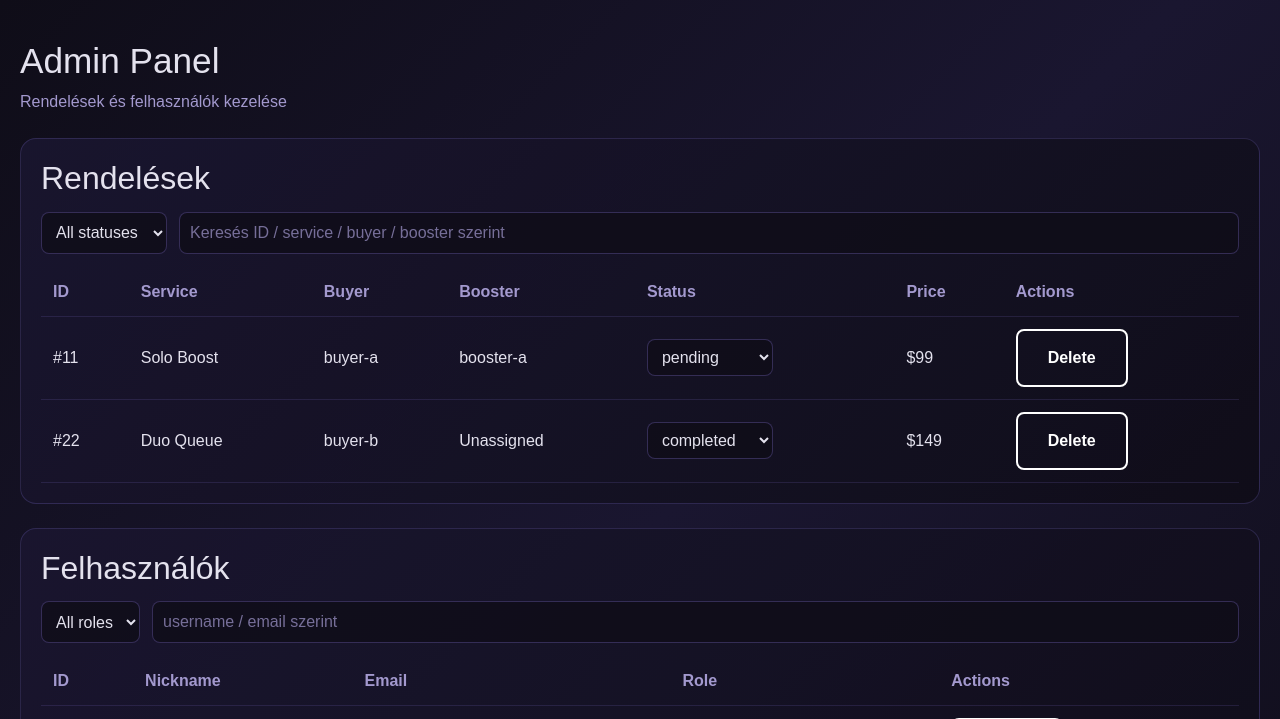
Scenario: Admin Dashboard › filters orders by search input
The image size is (1280, 719).
Type "booster-a" into the field with placeholder "Keresés ID / service / buyer / booster szerint" at (709,233), box [179, 212, 1239, 254]
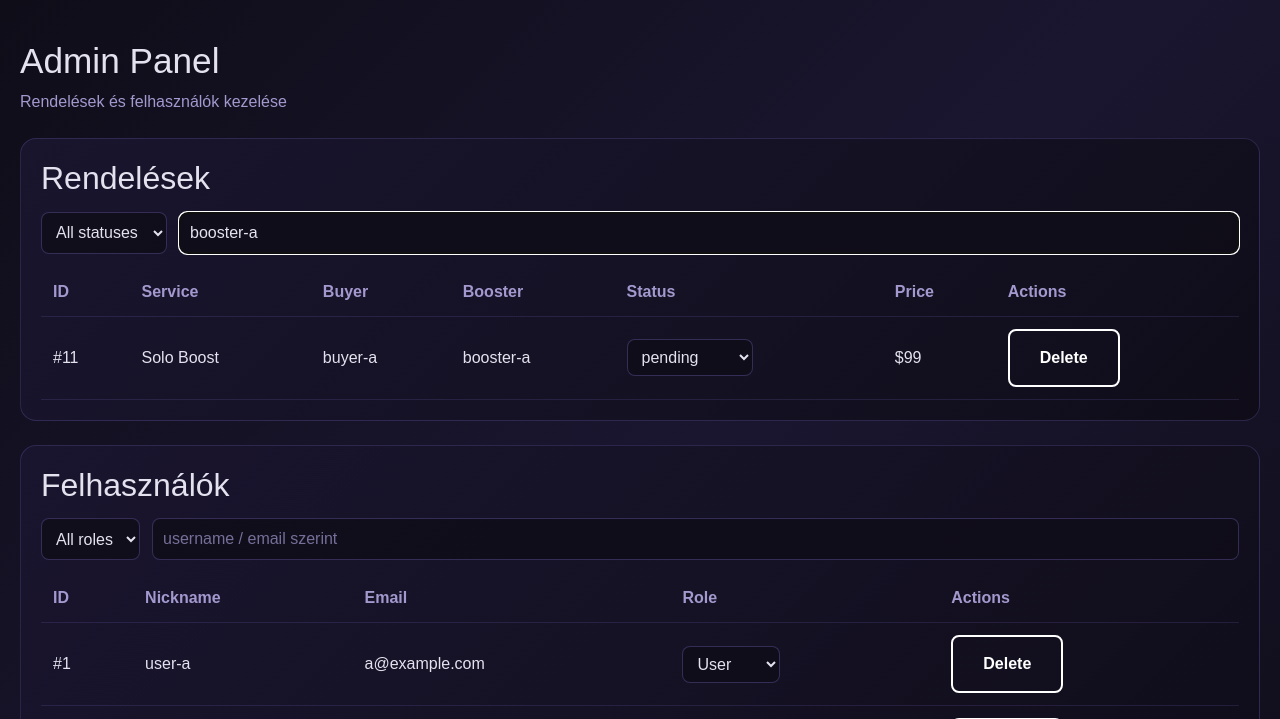
Expected: the text "#11" is shown, [41, 316, 130, 399]
Now the text "#22" is gone
